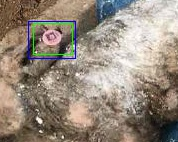text: (33, 23, 72, 54)
